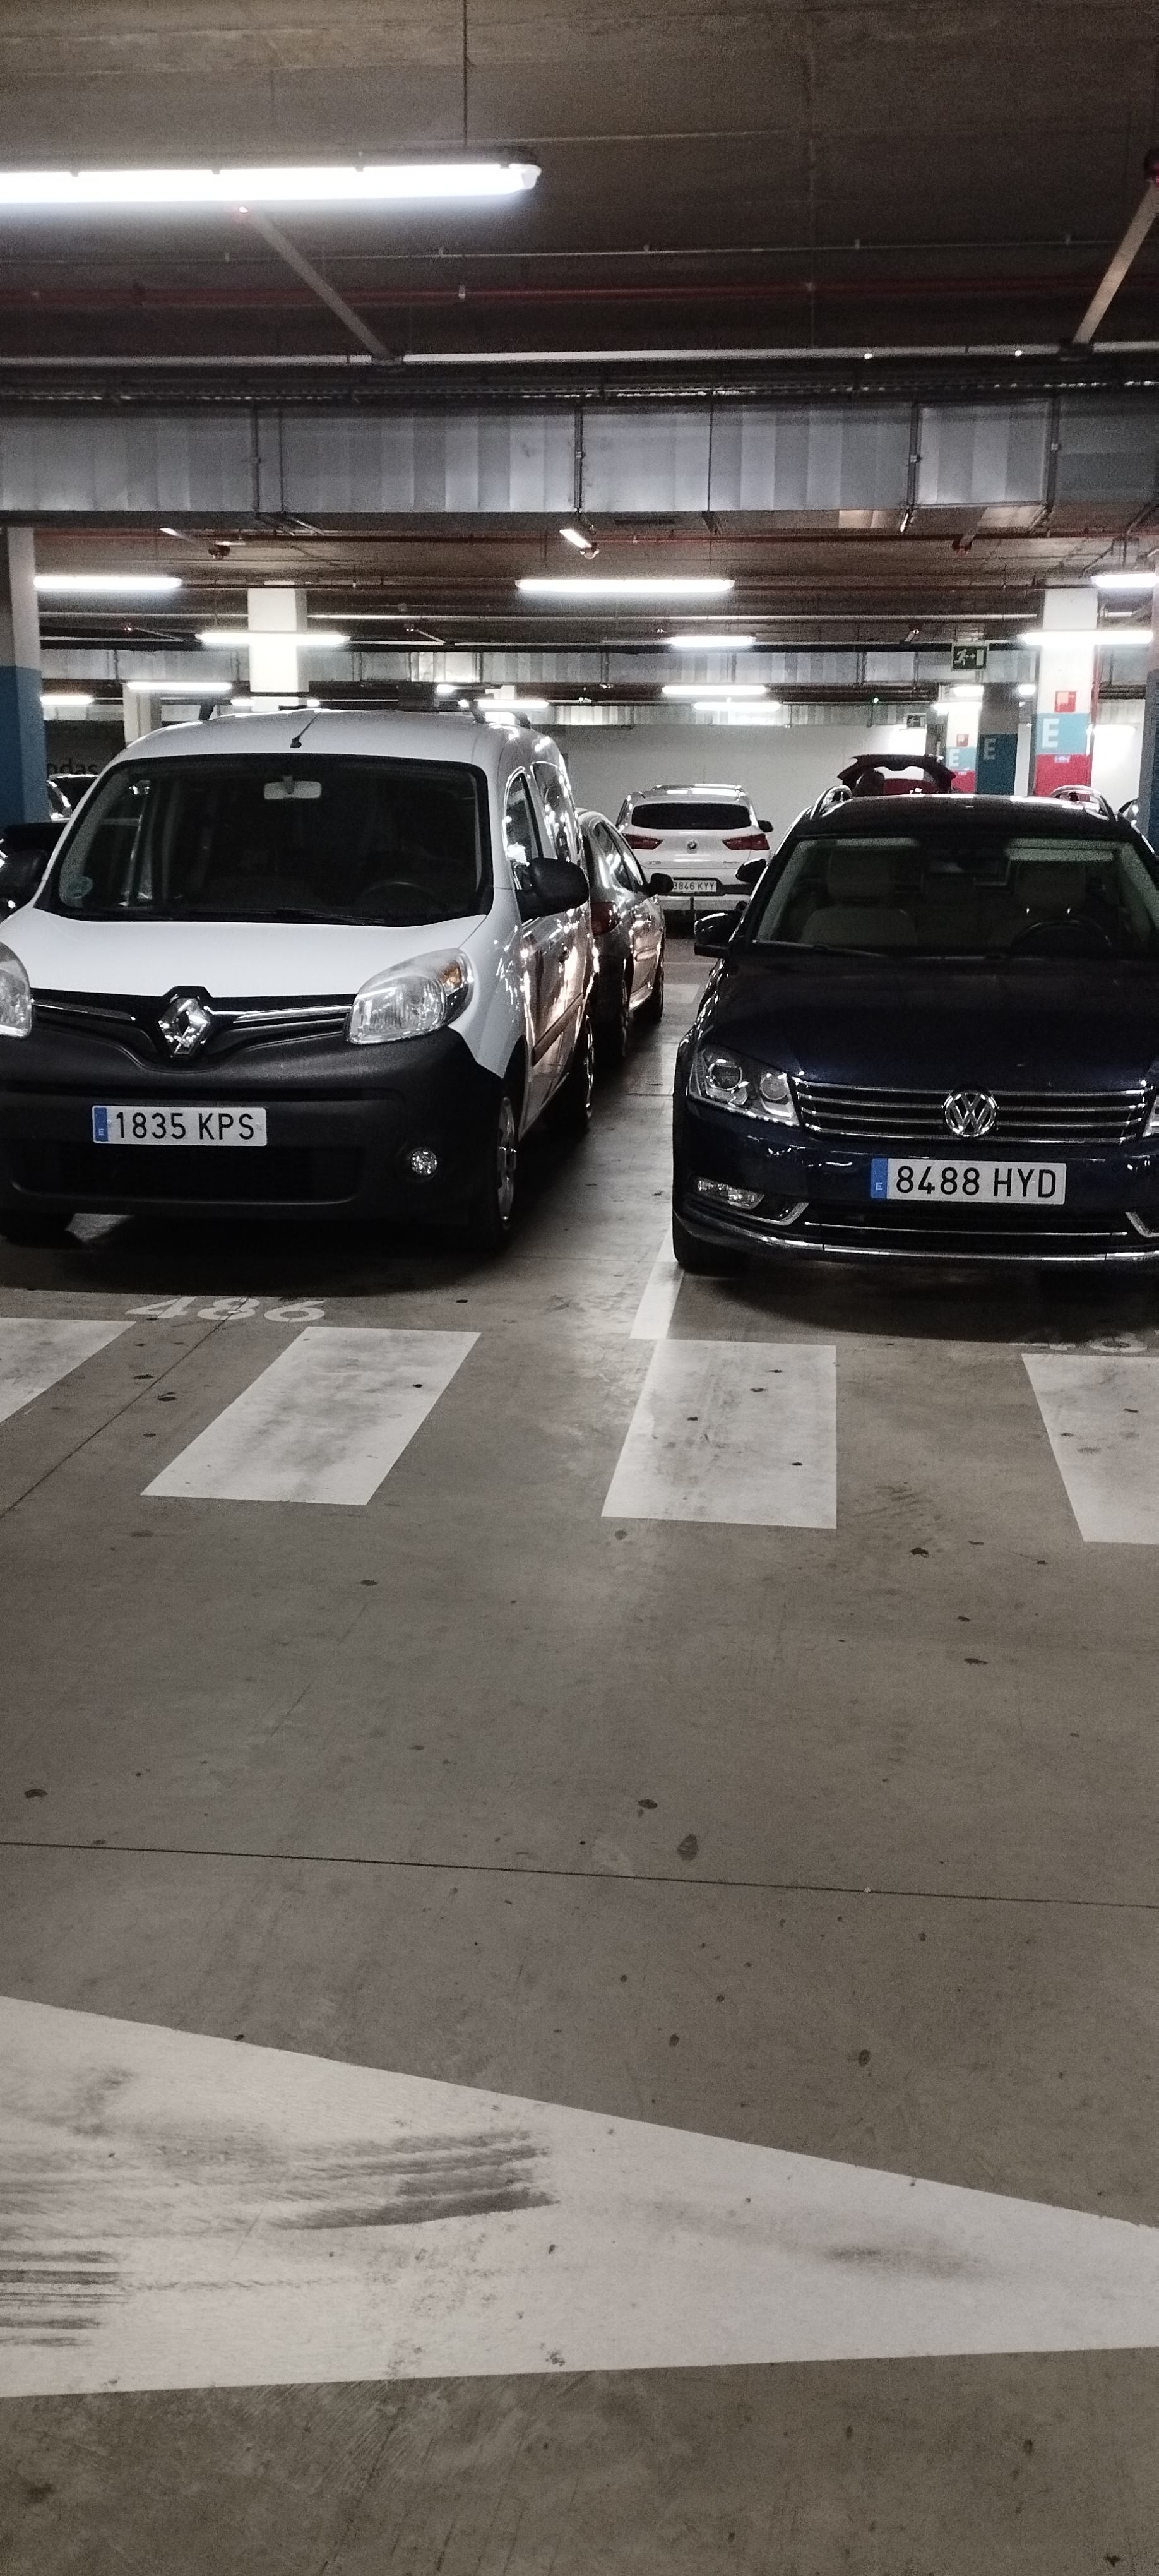Car: (0, 714, 605, 1208), (700, 809, 1158, 1296)
Plate: (863, 1157, 1069, 1208), (91, 1100, 266, 1154)
